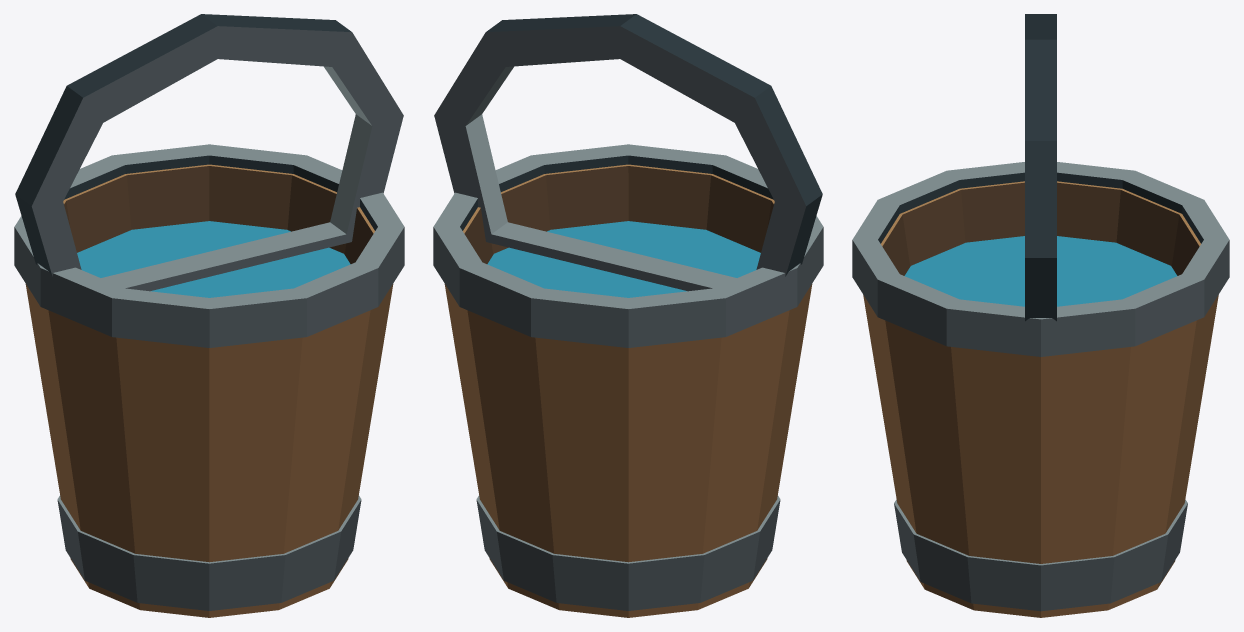
File: water_bucket.fbx
3 renders of one model, left to right at view 1: azimuth 30°, elevation 25°; view 2: azimuth 150°, elevation 25°; view 3: azimuth 270°, elevation 25°, orthographic. The views are drawn at different scales.
Parts seen in each view (by area): view 1: water_bucket; view 2: water_bucket; view 3: water_bucket.
Boxes of the visible parts, x1,y1,x2,y2 form: water_bucket: (14,14,404,617); water_bucket: (433,14,823,617); water_bucket: (852,14,1229,617).
Size of the model in its own units: 1.08 by 1.5 by 0.9803.
Materials: 1 (1 with a texture image).
